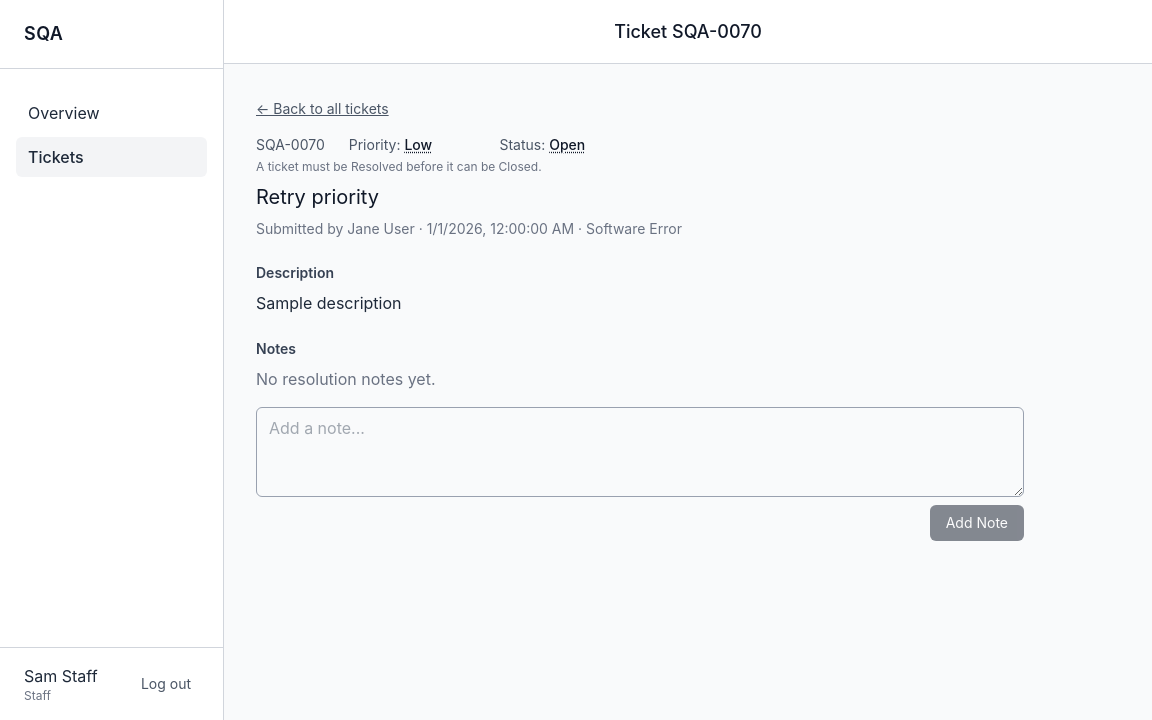
Test: TicketDetail page › failed updates (error handling) › TC-ERR-05: after a failed priority update, a successful retry clears the error
Expected: the heading "Retry priority" is shown, [256,185,379,209]
Select "High" in the dropdown next to "Priority:": (440,145) [404,135,476,155]
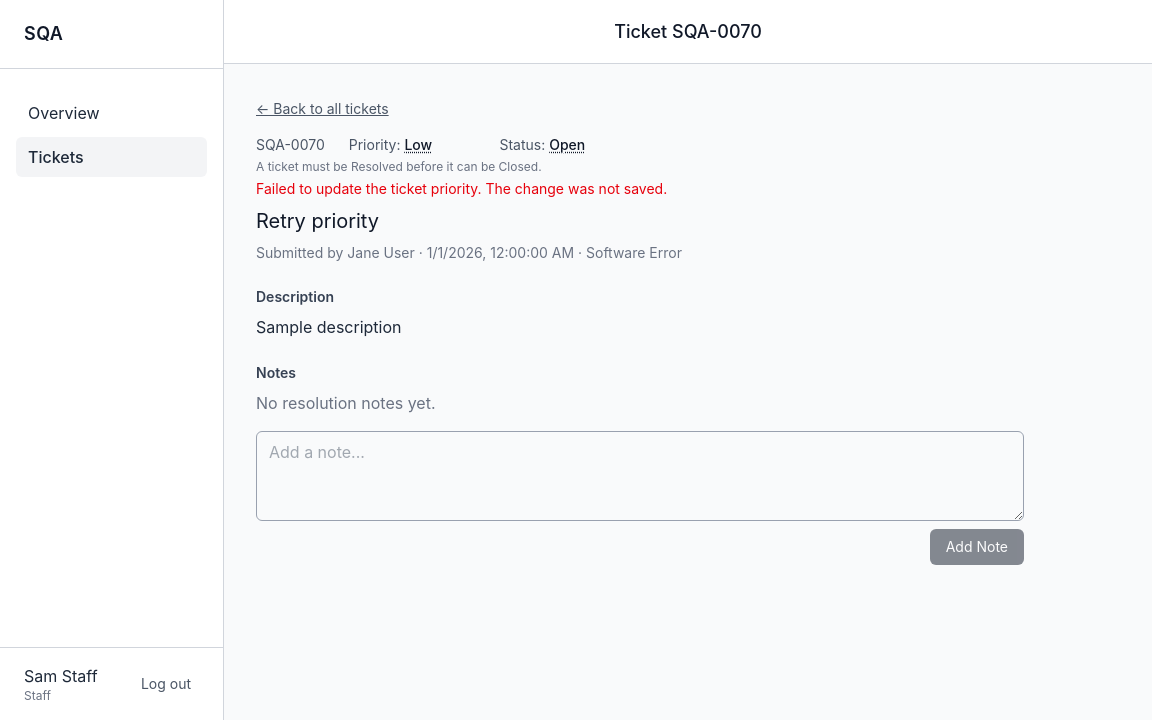
Expected: the message "Failed to update the ticket priority. The change was not saved." is shown, [256,180,667,197]
Select "High" in the dropdown next to "Priority:": (440,145) [404,135,476,155]
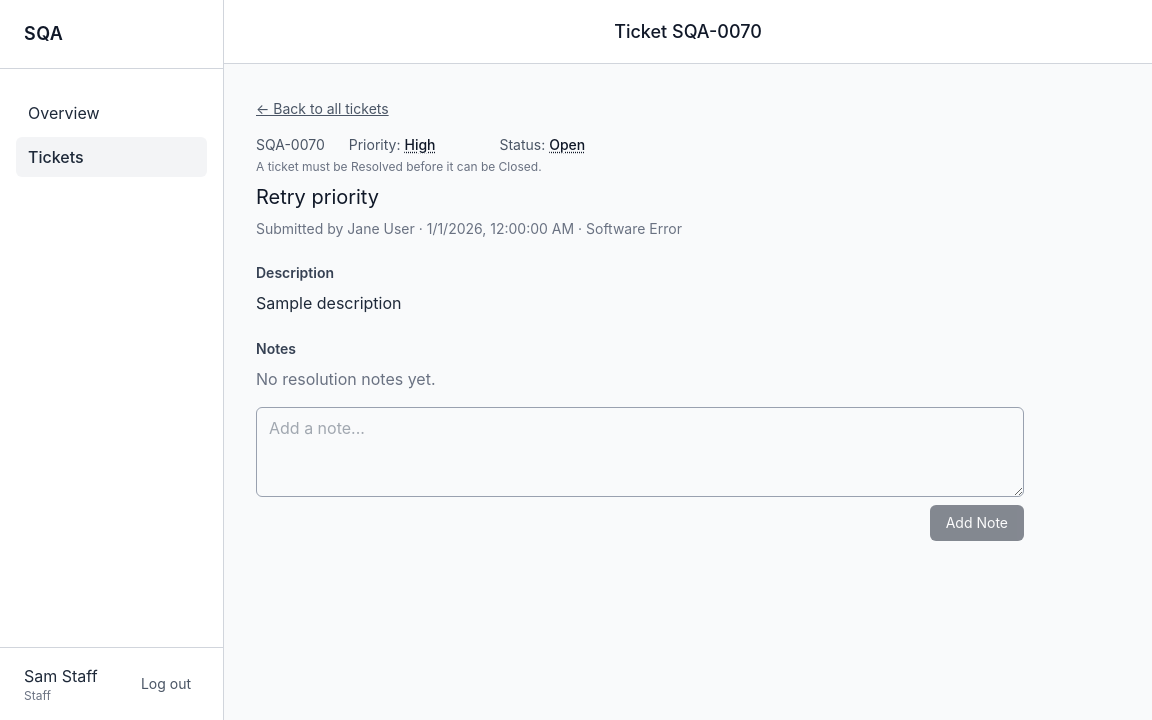
Expected: the message "Failed to update the ticket priority. The change was not saved." is gone
